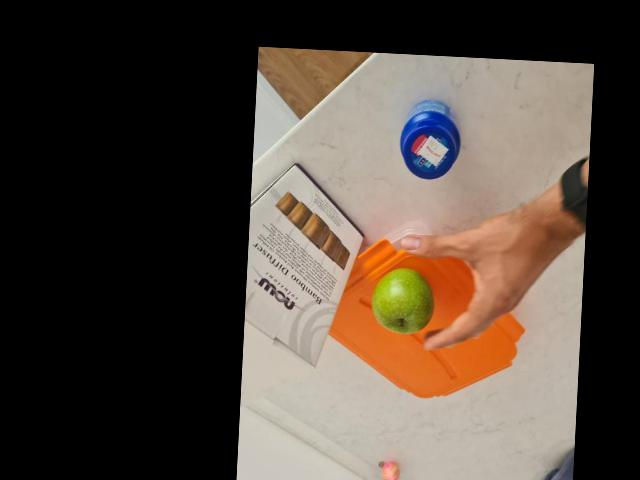apple: (373, 265, 427, 337)
